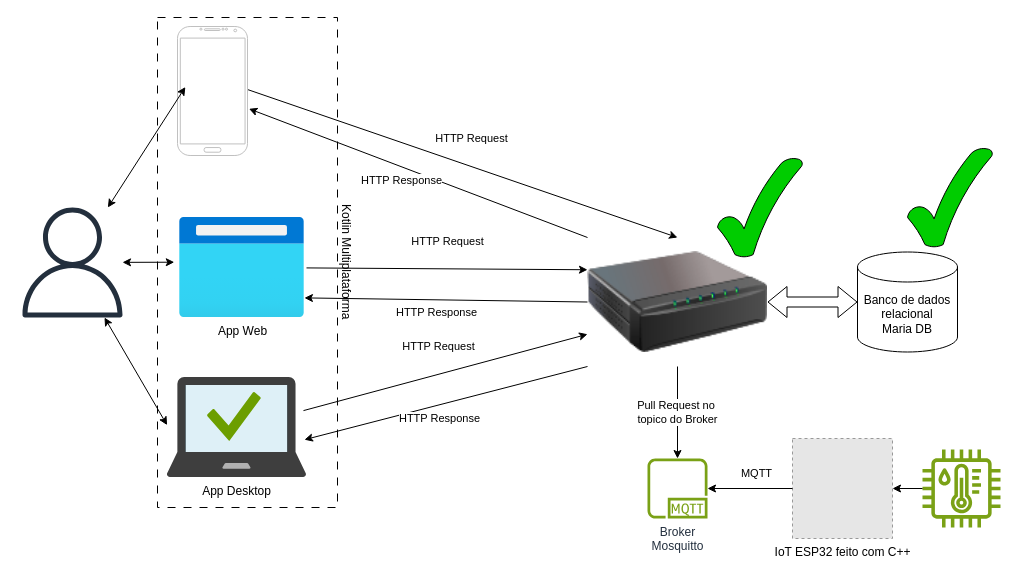
This 1017x577 diagram has some shape labels left out. Grey dashed boxes stand in for pictures. The centre of each missing label's shape, as x and y in pixels:
"App Mobile" belongs at [212,91].
"Backend feito com Kotlin e Spring Boot" belongs at [677,301].
"Usuário" belongs at [72,262].
